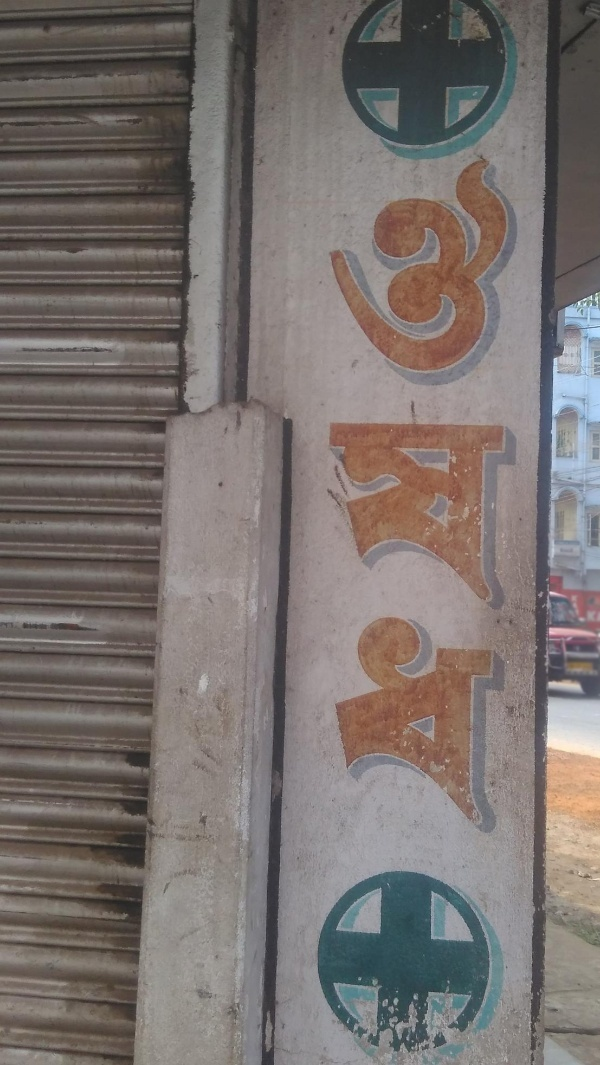text: (321, 155, 336, 841), (337, 155, 352, 841), (353, 155, 368, 841), (369, 155, 384, 841), (385, 155, 400, 841), (401, 155, 416, 841), (417, 155, 432, 841), (433, 155, 448, 841), (449, 155, 464, 841), (465, 155, 480, 841), (481, 155, 496, 841), (497, 155, 512, 841), (513, 155, 521, 841), (570, 595, 576, 619), (577, 663, 593, 671), (593, 610, 599, 625), (566, 663, 576, 671), (587, 610, 592, 625), (577, 595, 580, 619)
